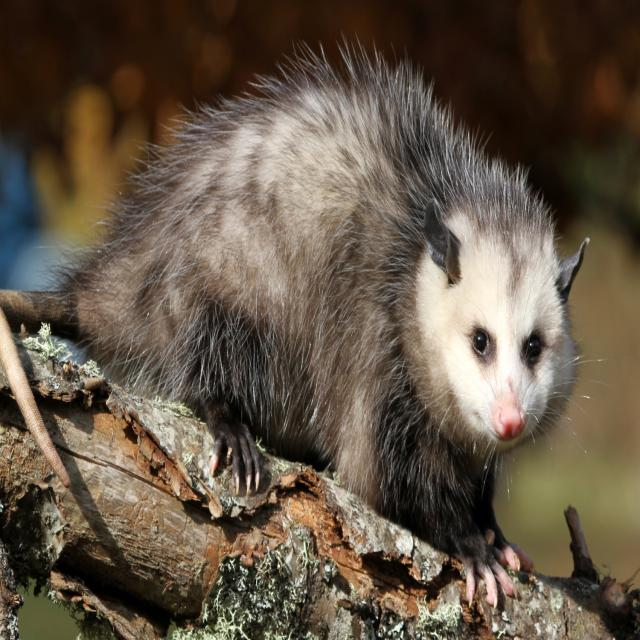Possum: (0, 49, 572, 577)
